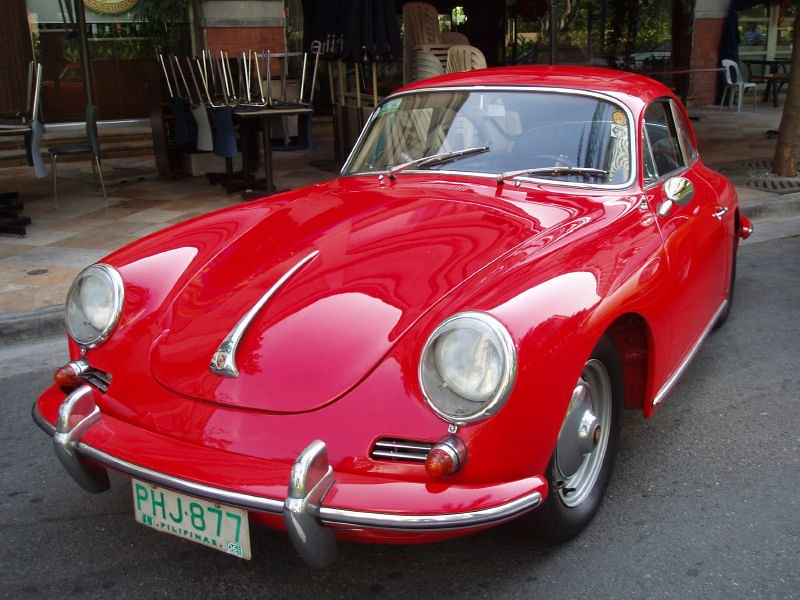car: (29, 54, 759, 572)
